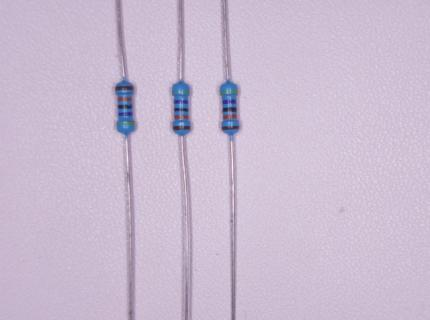Black band: (223, 107, 237, 112), (119, 105, 132, 109), (175, 108, 189, 111)
Brown band: (116, 86, 134, 91), (174, 126, 191, 130), (223, 126, 239, 130)
Orange band: (223, 114, 237, 119), (118, 97, 132, 101), (175, 115, 188, 119)
Violet band: (222, 100, 237, 104), (118, 112, 132, 116), (174, 100, 188, 104)
Yellow band: (118, 121, 135, 125), (172, 90, 189, 94), (221, 90, 237, 94)
